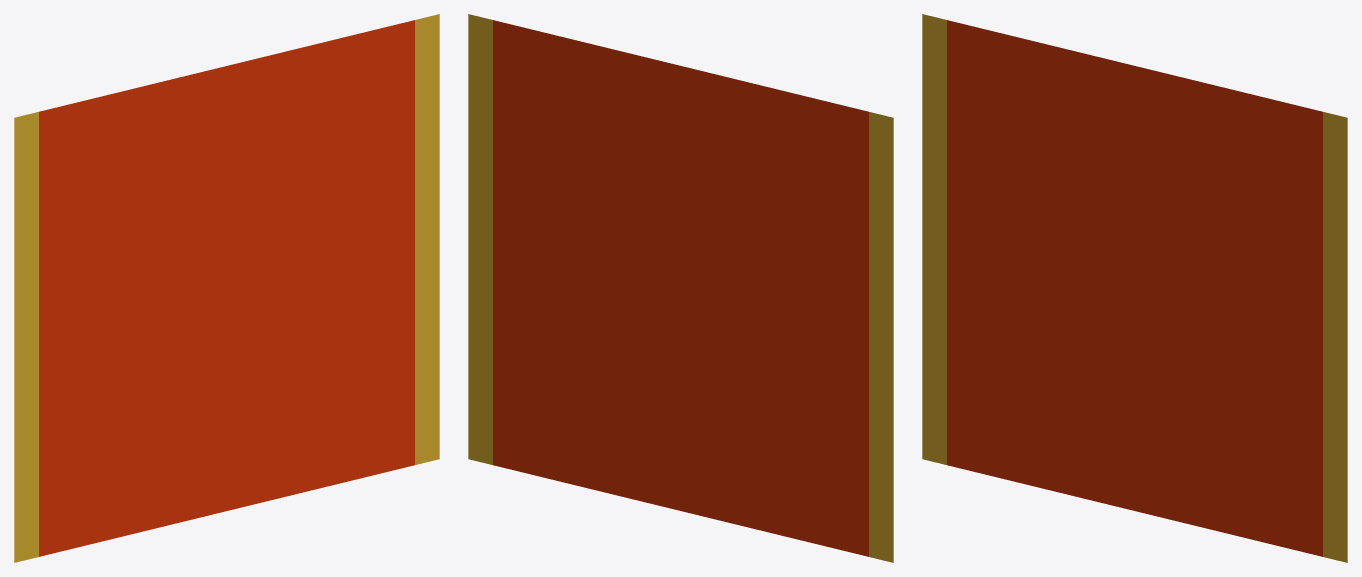
The model's file is Carpet.fbx.
3 renders of one model, left to right at view 1: azimuth 30°, elevation 25°; view 2: azimuth 150°, elevation 25°; view 3: azimuth 330°, elevation 25°, orthographic.
Parts seen in each view (by area): view 1: Carpet; view 2: Carpet; view 3: Carpet.
Part boxes in pixels (box(x1,y1,x2,y2)): Carpet: box(14, 14, 439, 562); Carpet: box(468, 14, 893, 562); Carpet: box(922, 14, 1347, 562).
Size of the model in its own units: 200 by 200 by 8.27e-05.
